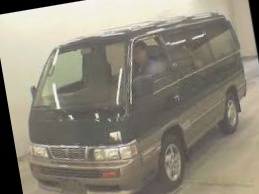van: (5, 4, 259, 194)
